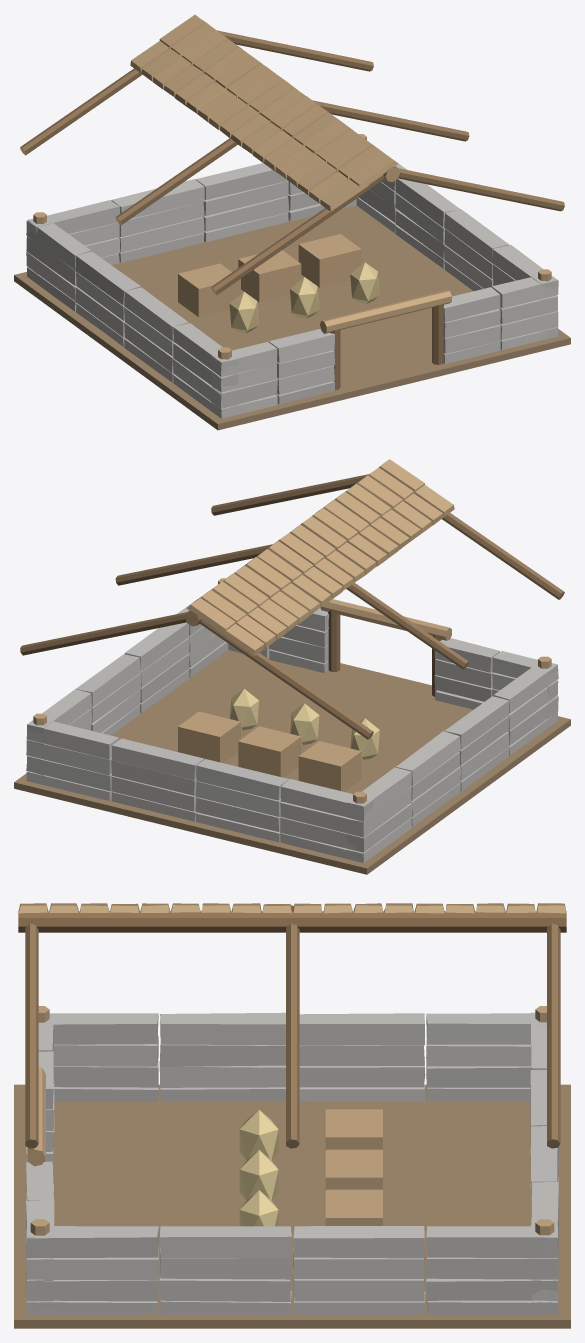
The model's file is building_warehouse_half.glb.
3 views of the same model, one above another, from view 1: azimuth 30°, elevation 25°; view 2: azimuth 150°, elevation 25°; view 3: azimuth 270°, elevation 25° (orthographic). The views are drawn at different scales.
Visible parts, largest first — view 1: building_warehouse_half; view 2: building_warehouse_half; view 3: building_warehouse_half.
Boxes of the visible parts, x1,y1,x2,y2 form: building_warehouse_half: (14, 14, 570, 430); building_warehouse_half: (14, 459, 570, 874); building_warehouse_half: (14, 903, 570, 1328).
Size of the model in its own units: 5.85 by 3.56 by 5.85.
